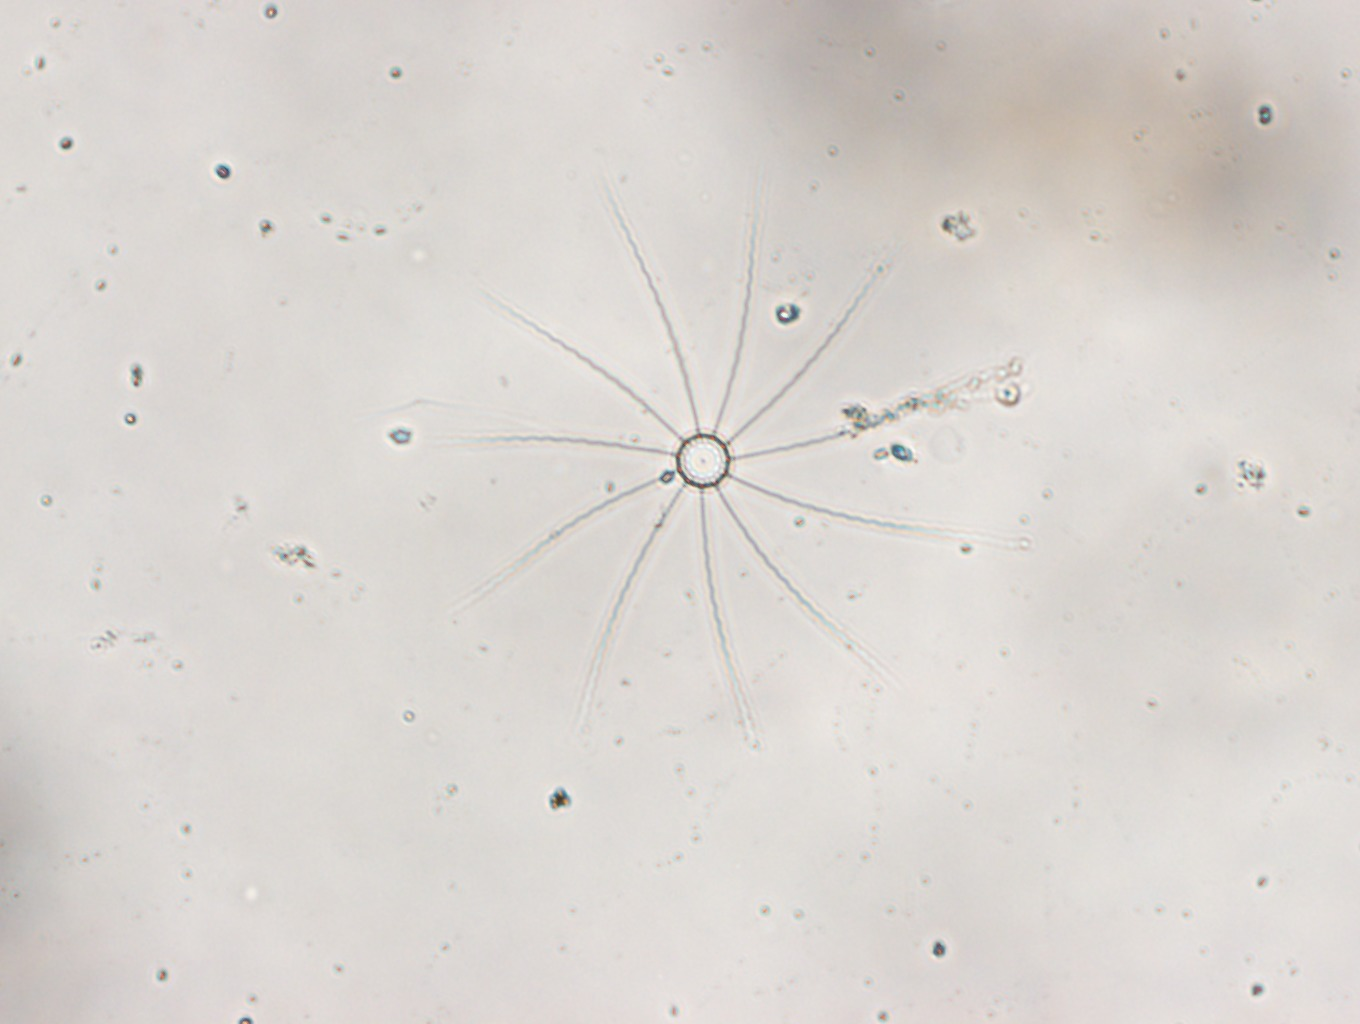bacteriastrum: (426, 169, 1002, 751)
